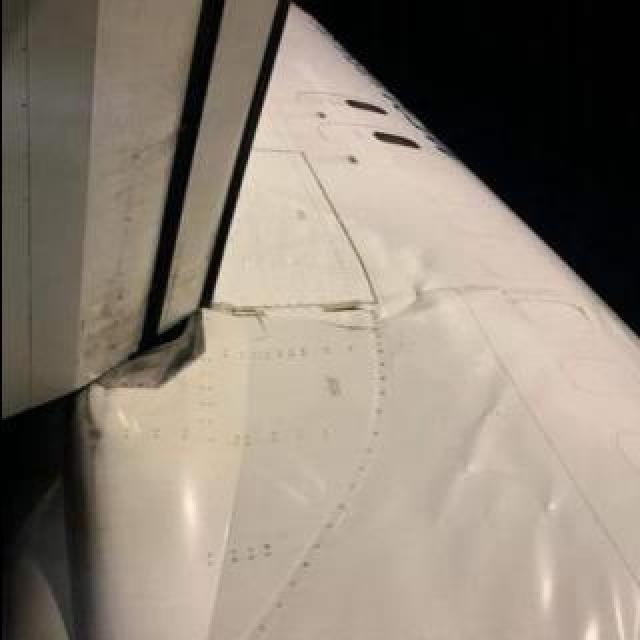dent: (434, 371, 518, 523), (196, 280, 522, 318), (529, 485, 561, 621)
